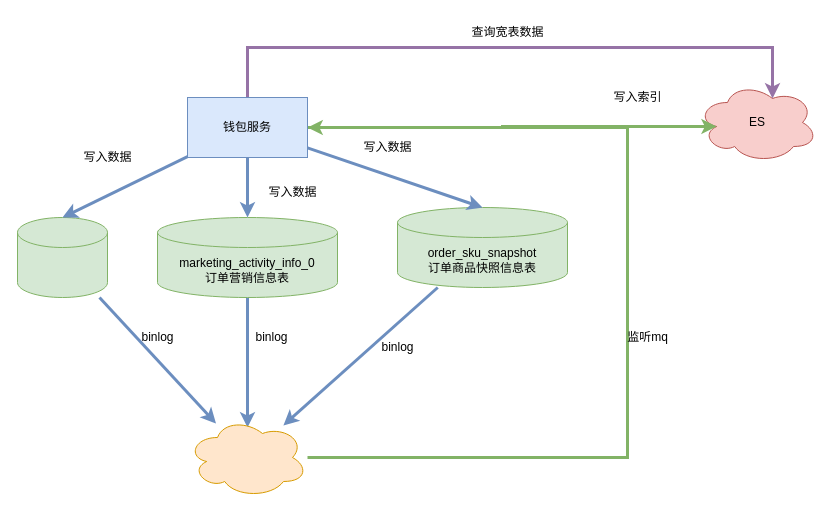
Image size: 835x515. Some labels were removed from this diagram. Each missing label, with the box of its shape:
biz_order主表: (16, 216, 108, 298)
DDMQ: (186, 416, 308, 498)
